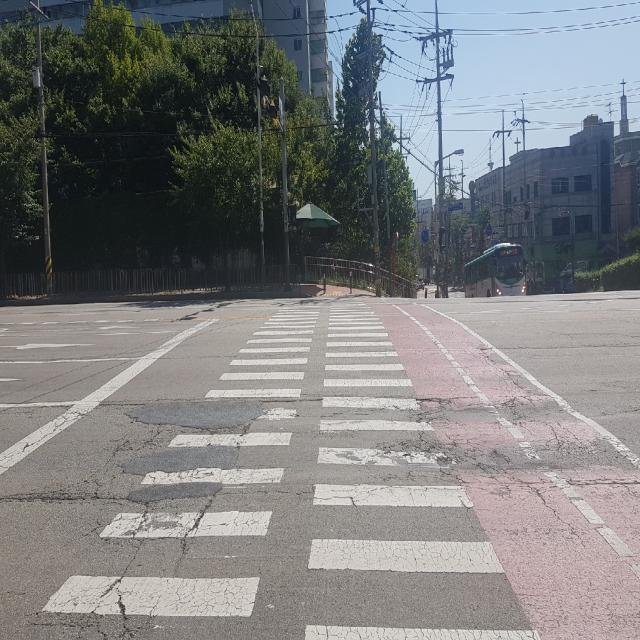횡단보도: (41, 297, 544, 639)
